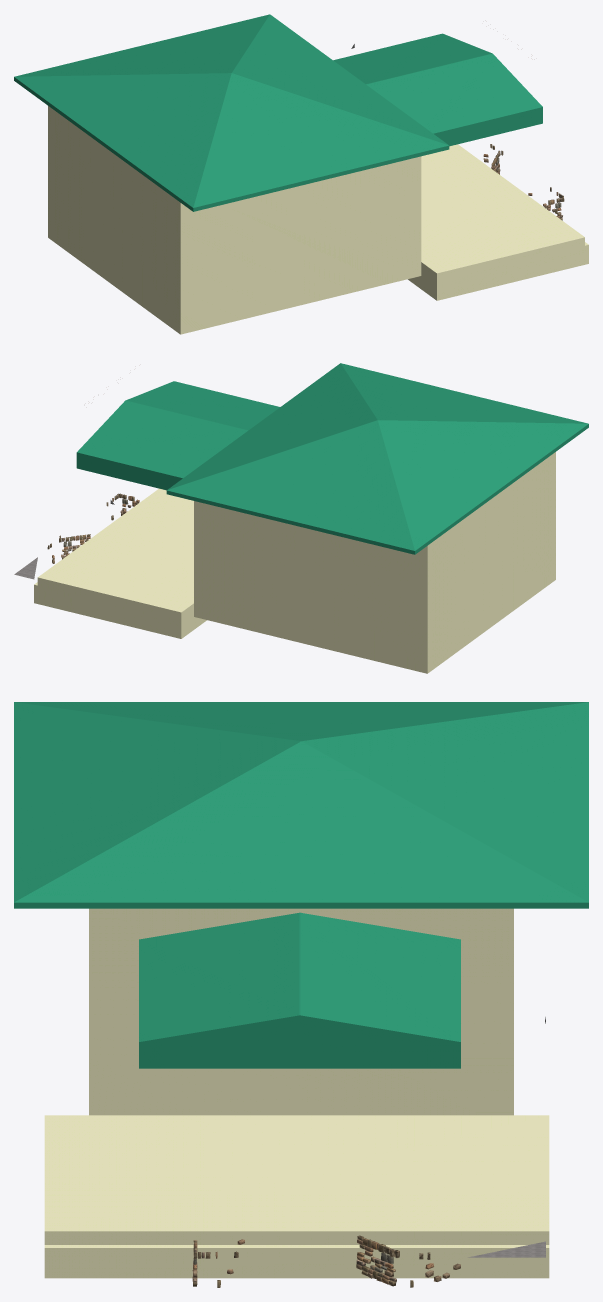
The model's file is municipal-office.lod.glb.
The picture shows the model from 3 angles, top to bottom: view 1: azimuth 30°, elevation 25°; view 2: azimuth 150°, elevation 25°; view 3: azimuth 270°, elevation 25°; orthographic projection. The views are drawn at different scales.
Visible parts, largest first — view 1: be-3; view 2: be-3; view 3: be-3.
Part boxes in pixels (x1=…): be-3: x1=14, y1=14, x2=588, y2=334; be-3: x1=34, y1=363, x2=588, y2=673; be-3: x1=14, y1=702, x2=588, y2=1278.
Bounding box in the file's own units: 429 × 191 × 311.
17 materials, 17 textured.
